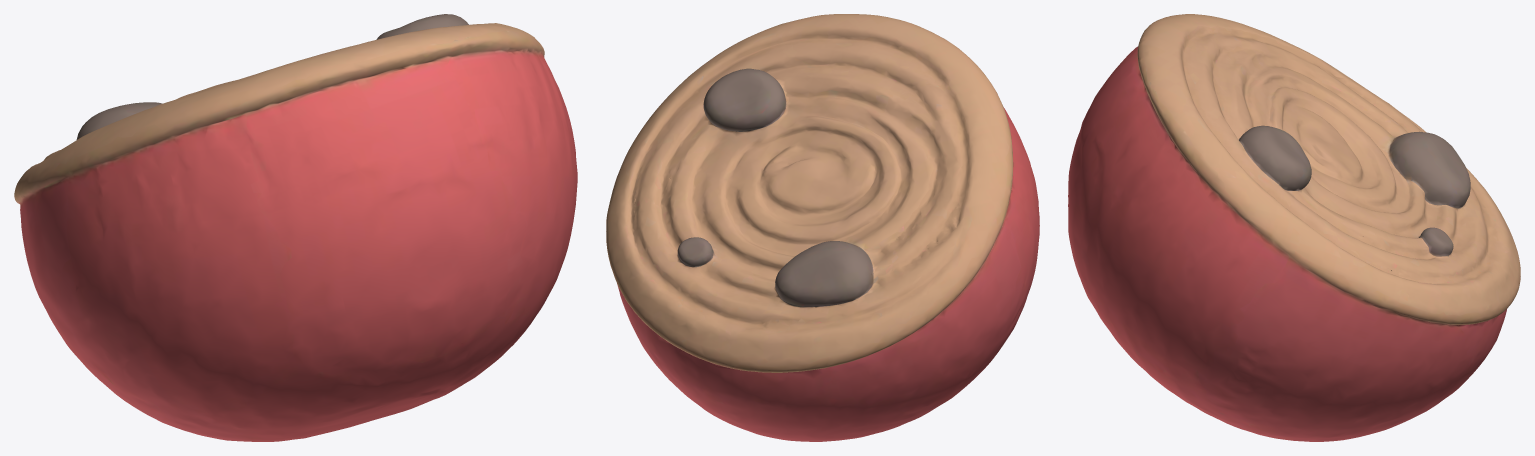
The model's file is planet_lantern.glb.
3 renders of one model, left to right at view 1: azimuth 30°, elevation 25°; view 2: azimuth 150°, elevation 25°; view 3: azimuth 270°, elevation 25°, orthographic. The views are drawn at different scales.
Visible parts, largest first — view 1: geometry_0; view 2: geometry_0; view 3: geometry_0.
Part boxes in pixels (x1,y1,x2,y2): geometry_0: [14, 14, 577, 441]; geometry_0: [606, 14, 1039, 441]; geometry_0: [1068, 14, 1520, 441].
Bounding box in the file's own units: 0.8365 × 0.7389 × 0.812.
1 material, 1 textured.
